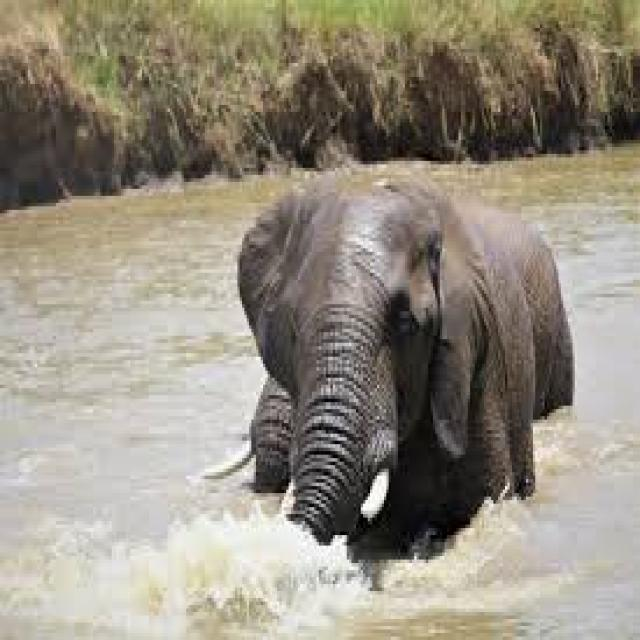Elephant: (202, 168, 575, 559)
